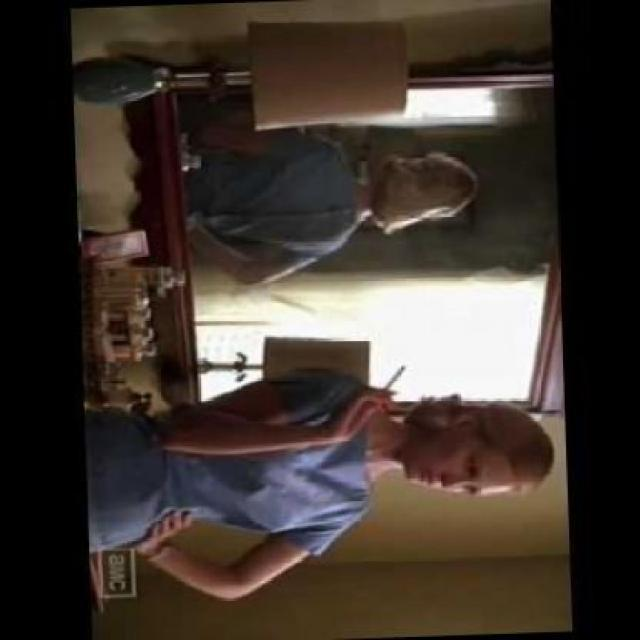cigarette: (378, 364, 407, 398)
